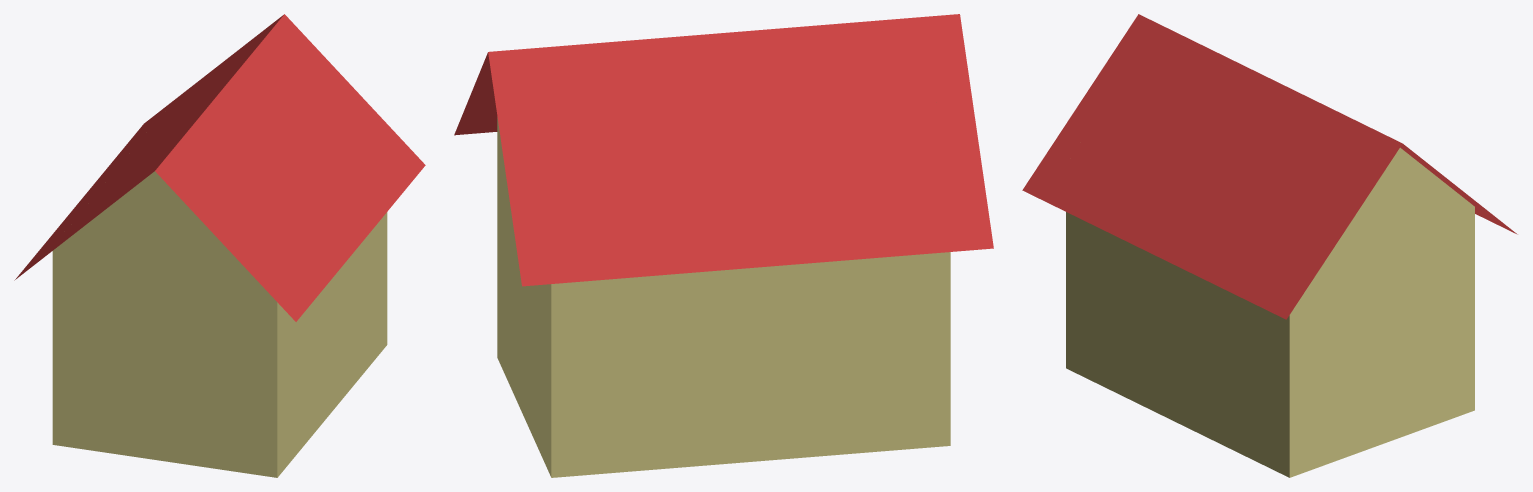
3 views of the same model, side by side, from view 1: azimuth 30°, elevation 25°; view 2: azimuth 150°, elevation 25°; view 3: azimuth 270°, elevation 25° (orthographic). The views are drawn at different scales.
Size of the model in its own units: 16.3 by 15.98 by 11.03.
